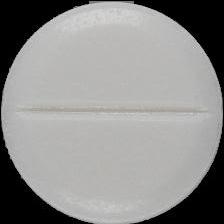0054-4728: (0, 0, 224, 224)
